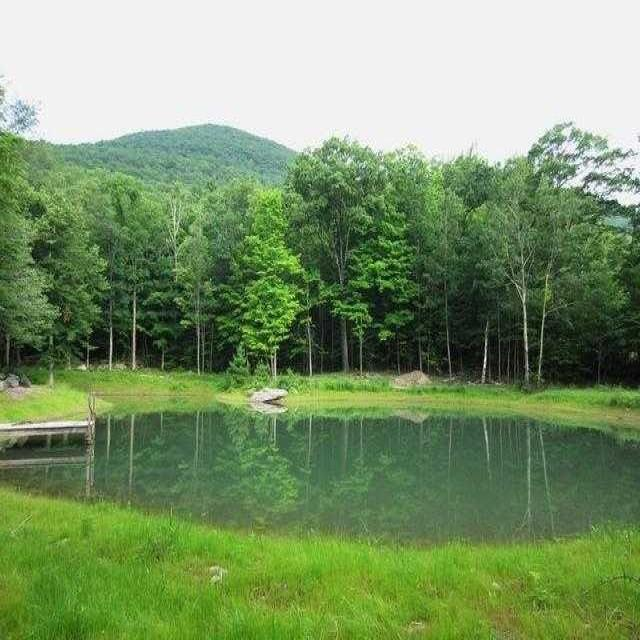Ponds: (8, 392, 640, 539)
